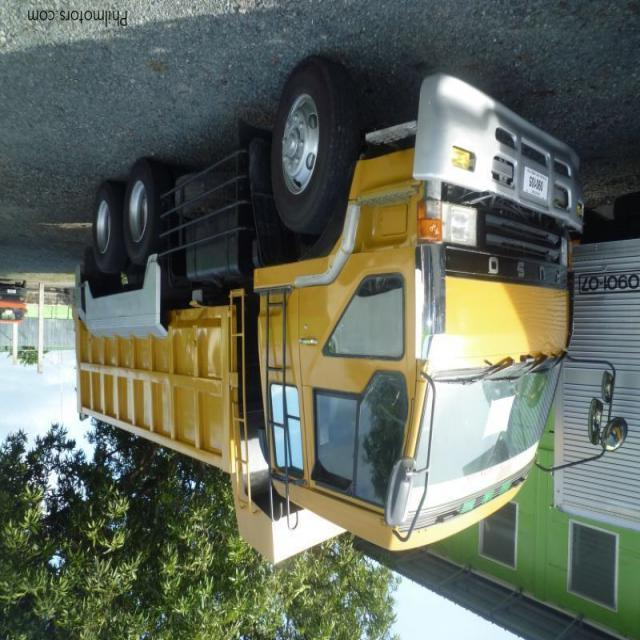truck: (71, 54, 622, 568)
